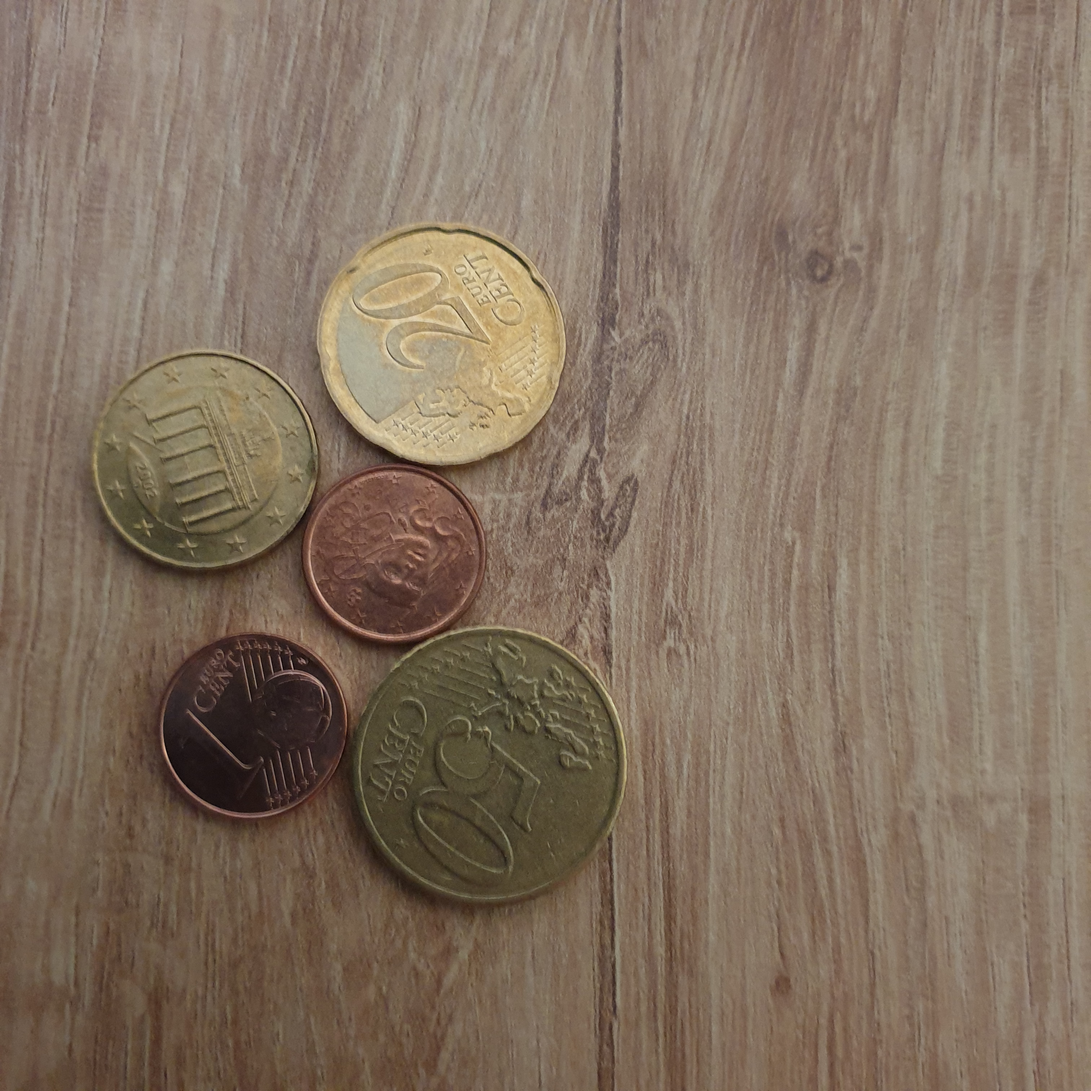1 cent: (160, 631, 350, 822), (298, 456, 488, 647)
10 cent: (78, 332, 320, 577)
20 cent: (310, 213, 574, 470)
50 cent: (345, 622, 630, 905)
